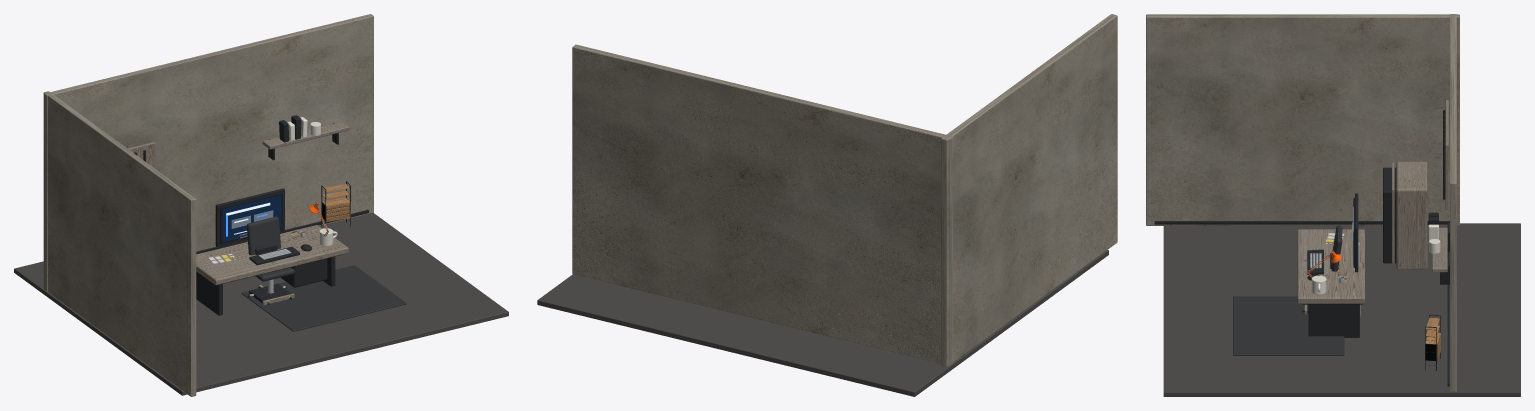
Rendered from study-hub-home-v30.glb.
3 views of the same model, side by side, from view 1: azimuth 30°, elevation 25°; view 2: azimuth 150°, elevation 25°; view 3: azimuth 270°, elevation 25° (orthographic). The views are drawn at different scales.
Visible parts, largest first — view 1: Architecture_BackWall, Architecture_LeftWall, Architecture_Floor, V30_Polish_Rug, Desk_WalnutTop, Monitor_Info_Plane, Chair_Back_Manufactured, Desk_DrawerCarcass, Desk_Frame_L, drawer_cabinet, Monitor_Frame, Architecture_Shelf_Walnut; view 2: Architecture_BackWall, Architecture_LeftWall, Architecture_Floor; view 3: Architecture_LeftWall, Architecture_Floor, V30_Polish_Rug, Desk_WalnutTop, Cabinet_Custom_Body, Architecture_BackWall, Desk_Frame_R, Cabinet_Custom_Inner, Architecture_LeftShadowGap, drawer_cabinet, Architecture_Shelf_Walnut, Architecture_WalnutPanel (+2 smaller).
Part boxes in pixels (bbox=[...]): Architecture_BackWall: bbox=[44, 14, 373, 292]; Architecture_LeftWall: bbox=[43, 91, 196, 396]; Architecture_Floor: bbox=[14, 213, 508, 395]; V30_Polish_Rug: bbox=[241, 265, 406, 331]; Desk_WalnutTop: bbox=[196, 225, 348, 285]; Monitor_Info_Plane: bbox=[222, 195, 281, 242]; Chair_Back_Manufactured: bbox=[246, 216, 280, 255]; Desk_DrawerCarcass: bbox=[280, 258, 327, 287]; Desk_Frame_L: bbox=[196, 271, 222, 315]; drawer_cabinet: bbox=[321, 181, 350, 226]; Monitor_Frame: bbox=[215, 188, 284, 246]; Architecture_Shelf_Walnut: bbox=[262, 122, 349, 149]; Architecture_BackWall: bbox=[572, 44, 952, 366]; Architecture_LeftWall: bbox=[941, 14, 1117, 366]; Architecture_Floor: bbox=[537, 250, 1108, 396]; Architecture_LeftWall: bbox=[1146, 14, 1459, 225]; Architecture_Floor: bbox=[1163, 223, 1520, 396]; V30_Polish_Rug: bbox=[1233, 296, 1344, 355]; Desk_WalnutTop: bbox=[1297, 229, 1364, 303]; Cabinet_Custom_Body: bbox=[1396, 161, 1427, 269]; Architecture_BackWall: bbox=[1450, 14, 1456, 391]; Desk_Frame_R: bbox=[1308, 304, 1359, 337]; Cabinet_Custom_Inner: bbox=[1383, 167, 1396, 263]; Architecture_LeftShadowGap: bbox=[1154, 221, 1449, 224]; drawer_cabinet: bbox=[1425, 314, 1440, 370]; Architecture_Shelf_Walnut: bbox=[1432, 227, 1447, 272]; Architecture_WalnutPanel: bbox=[1445, 100, 1448, 209].
Bounding box in the file's own units: 9.2 × 5.97 × 8.6.
18 materials, 7 textured.
